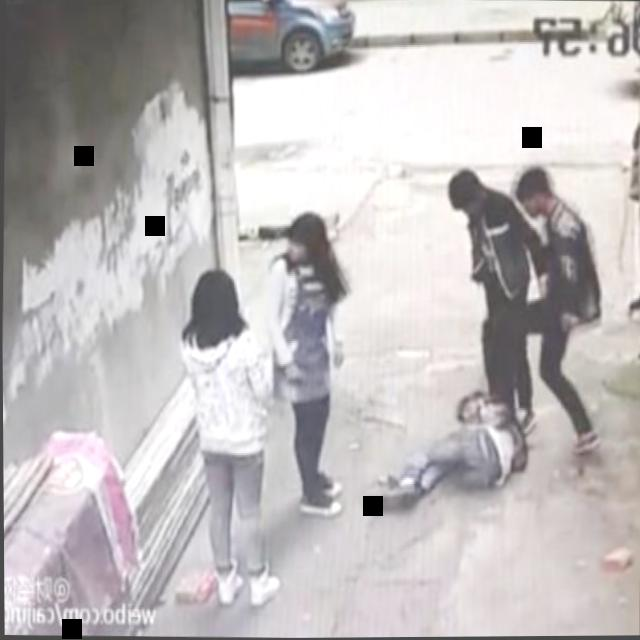Fall-Detected: (365, 384, 526, 528)
